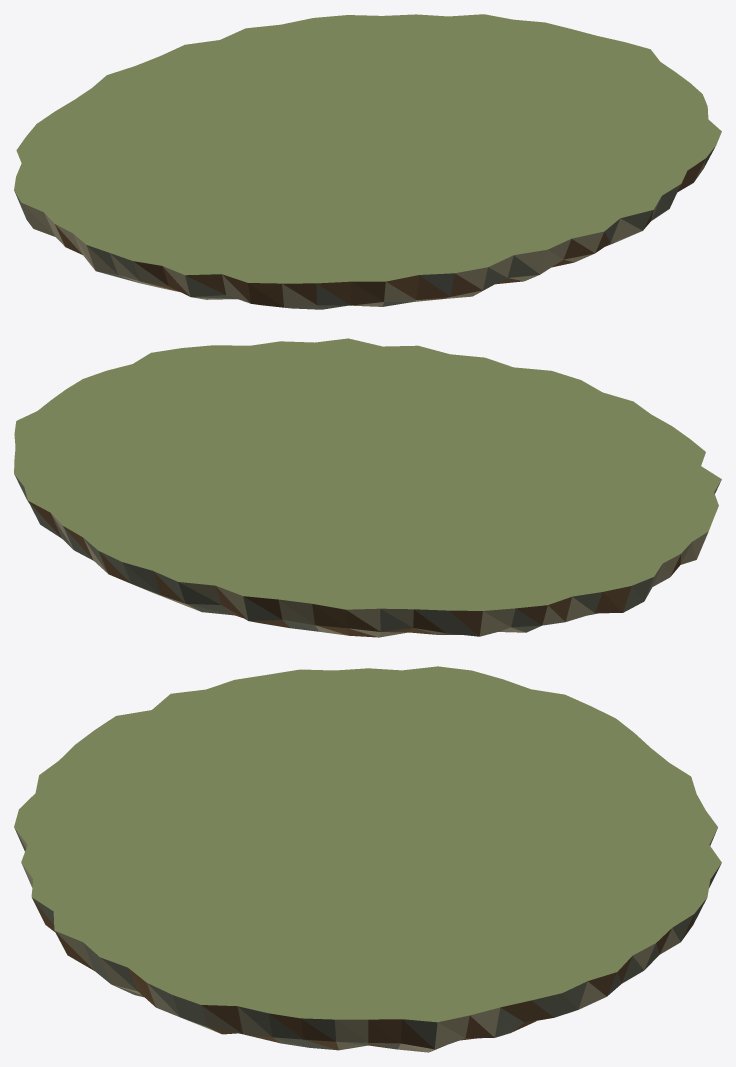
Rendered from island.glb.
3 views of the same model, one above another, from view 1: azimuth 30°, elevation 25°; view 2: azimuth 150°, elevation 25°; view 3: azimuth 270°, elevation 25° (orthographic). The views are drawn at different scales.
Visible parts, largest first — view 1: island_body; view 2: island_body; view 3: island_body.
Part boxes in pixels (bbox=[...]): island_body: bbox=[14, 14, 721, 309]; island_body: bbox=[14, 338, 721, 637]; island_body: bbox=[14, 666, 721, 1052].
Bounding box in the file's own units: 58.01 × 3.96 × 48.77.
